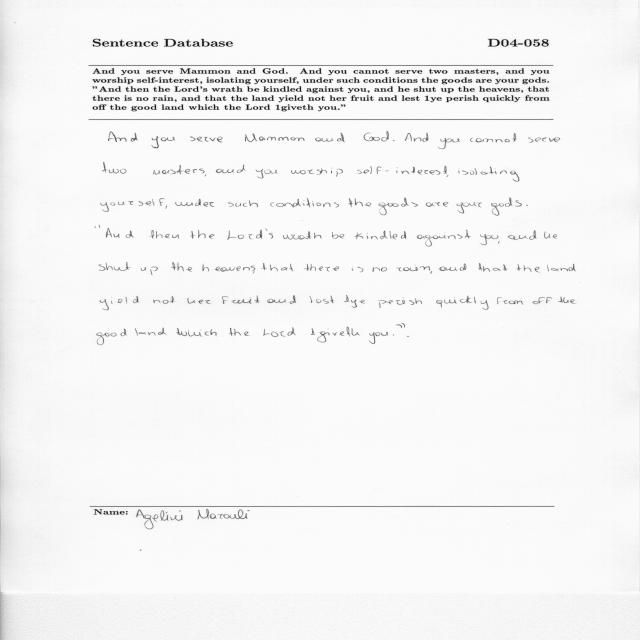word: (357, 166, 448, 177), (417, 230, 471, 247), (462, 167, 520, 182), (436, 296, 489, 310), (311, 327, 360, 342), (270, 198, 339, 208), (101, 199, 154, 212), (378, 198, 418, 215), (100, 296, 139, 310), (245, 133, 305, 142), (203, 264, 256, 274), (491, 198, 522, 215), (153, 165, 205, 175), (227, 229, 273, 240), (378, 297, 422, 308), (97, 329, 127, 345), (291, 168, 343, 177), (355, 231, 406, 240), (470, 133, 516, 142), (176, 328, 217, 337), (283, 231, 321, 240), (222, 295, 259, 304), (108, 131, 138, 142), (263, 327, 296, 337), (176, 199, 215, 207), (508, 230, 537, 240), (103, 162, 127, 174), (99, 262, 131, 271), (152, 137, 175, 149), (457, 202, 482, 213), (344, 295, 365, 308), (315, 133, 345, 142), (150, 230, 180, 239), (478, 263, 508, 272), (267, 295, 296, 304), (363, 132, 389, 142), (135, 328, 167, 336), (304, 264, 339, 271), (438, 138, 460, 149), (216, 165, 245, 173), (369, 332, 388, 344), (190, 230, 215, 239), (405, 133, 429, 142), (440, 263, 467, 271), (228, 201, 258, 208), (497, 297, 523, 305), (348, 198, 371, 207), (517, 264, 540, 273), (547, 264, 576, 271), (190, 137, 223, 143), (256, 169, 278, 178), (480, 234, 498, 245), (528, 137, 560, 143), (310, 296, 334, 304), (171, 263, 192, 272), (270, 264, 293, 272), (396, 323, 409, 337), (153, 296, 175, 304), (396, 266, 430, 271), (229, 328, 249, 336), (114, 231, 134, 238), (532, 297, 552, 304), (188, 298, 211, 304), (141, 267, 158, 275), (558, 297, 576, 304), (426, 202, 448, 207), (544, 232, 557, 239), (159, 198, 167, 209), (332, 232, 344, 239), (373, 267, 387, 272), (352, 267, 364, 272), (106, 229, 112, 238), (261, 263, 267, 270), (458, 170, 460, 174), (498, 241, 500, 244), (431, 271, 433, 274), (393, 140, 395, 141), (205, 175, 206, 177), (526, 205, 528, 206), (393, 335, 394, 336)
